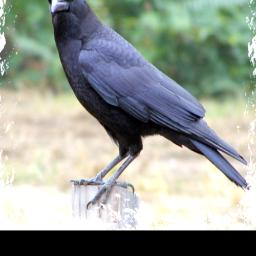Crow: (42, 0, 254, 213)
